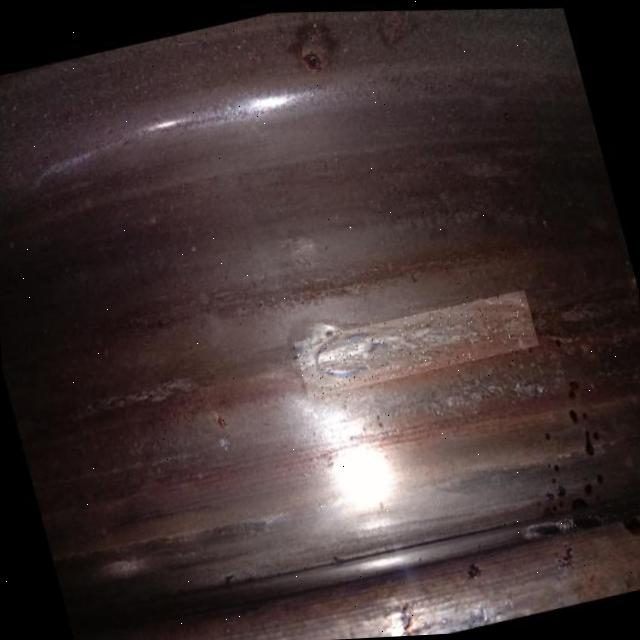Blue hole: (461, 556, 487, 587)
Contact_Fatigue_Cracks: (327, 317, 532, 364)
Peeling: (538, 473, 603, 529)
